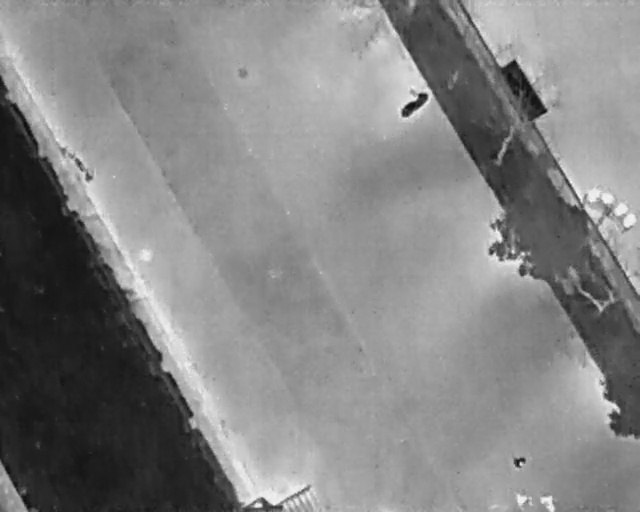Bicycle: (395, 85, 434, 123)
Person: (537, 494, 557, 511), (515, 492, 533, 510), (513, 457, 527, 469)
